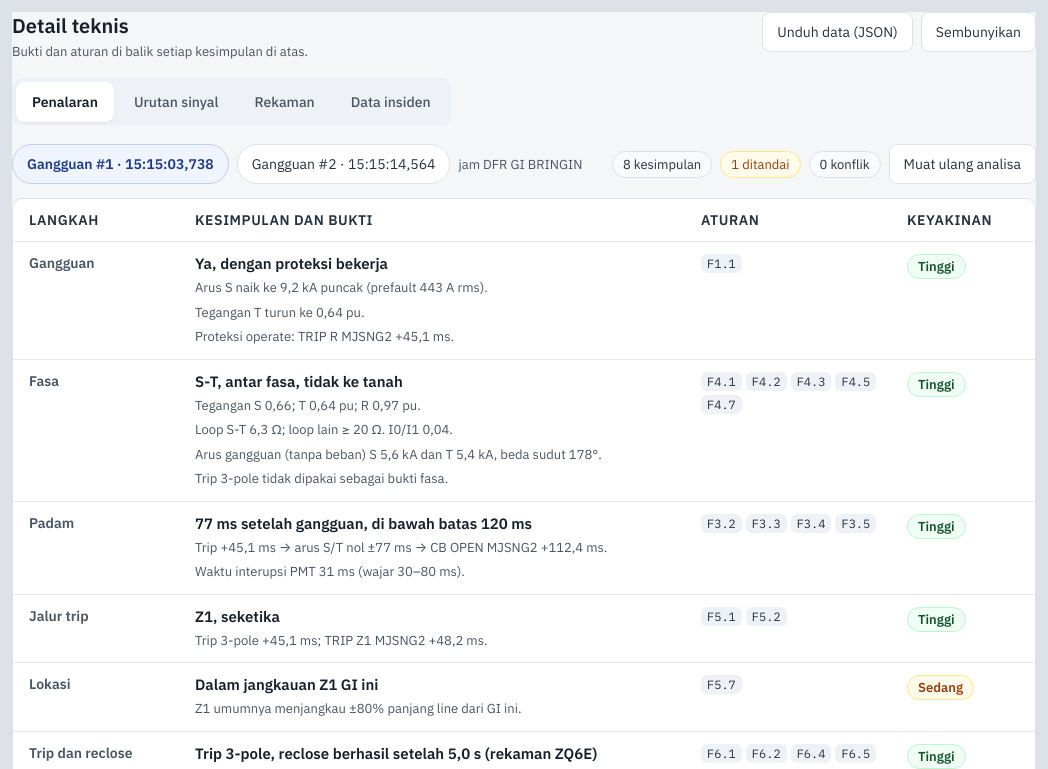
Test case: TechnicalDetails — Urutan sinyal › lists the fault record's status changes and the channels that never changed
The width and height of the screenshot is (1048, 769).
Click the button "Urutan sinyal": click(176, 102) x1=118 y1=82 x2=234 y2=122
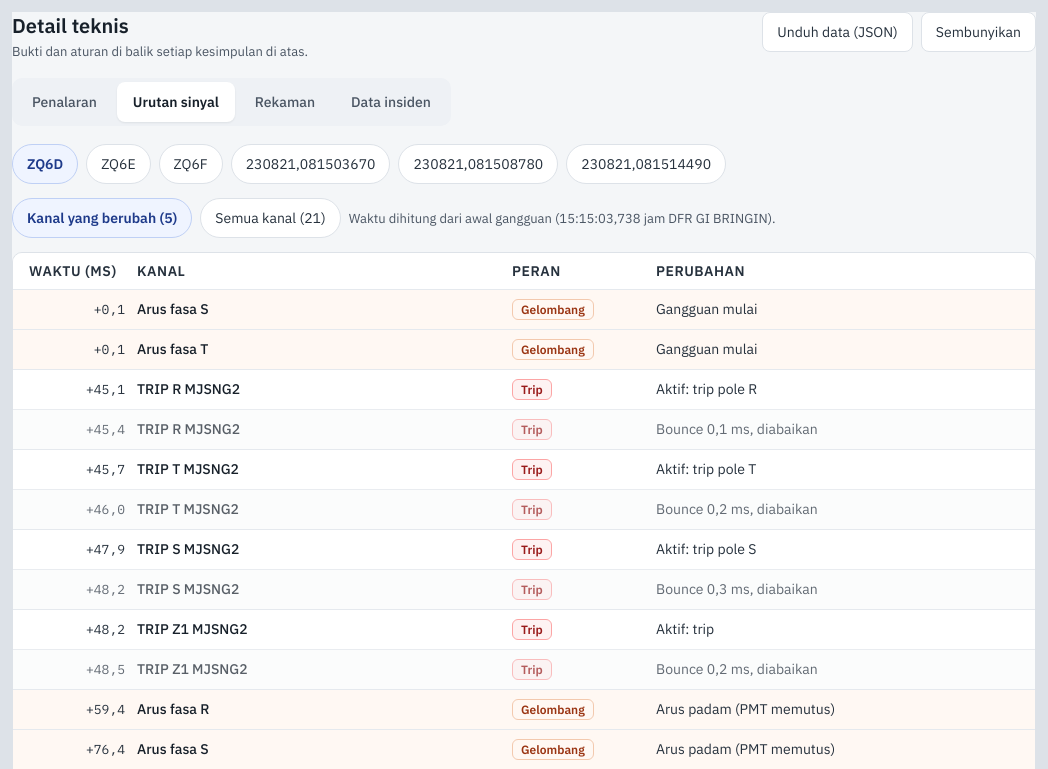
Result: the text "Waktu dihitung dari awal gangguan (15:15:03,738 jam DFR GI BRINGIN)" is shown at x1=349 y1=210 x2=776 y2=226
Result: the 1st text "TRIP Z1 MJSNG2" is shown at x1=137 y1=620 x2=248 y2=638
Click the button "Semua kanal (21)": click(270, 218) x1=200 y1=198 x2=341 y2=238
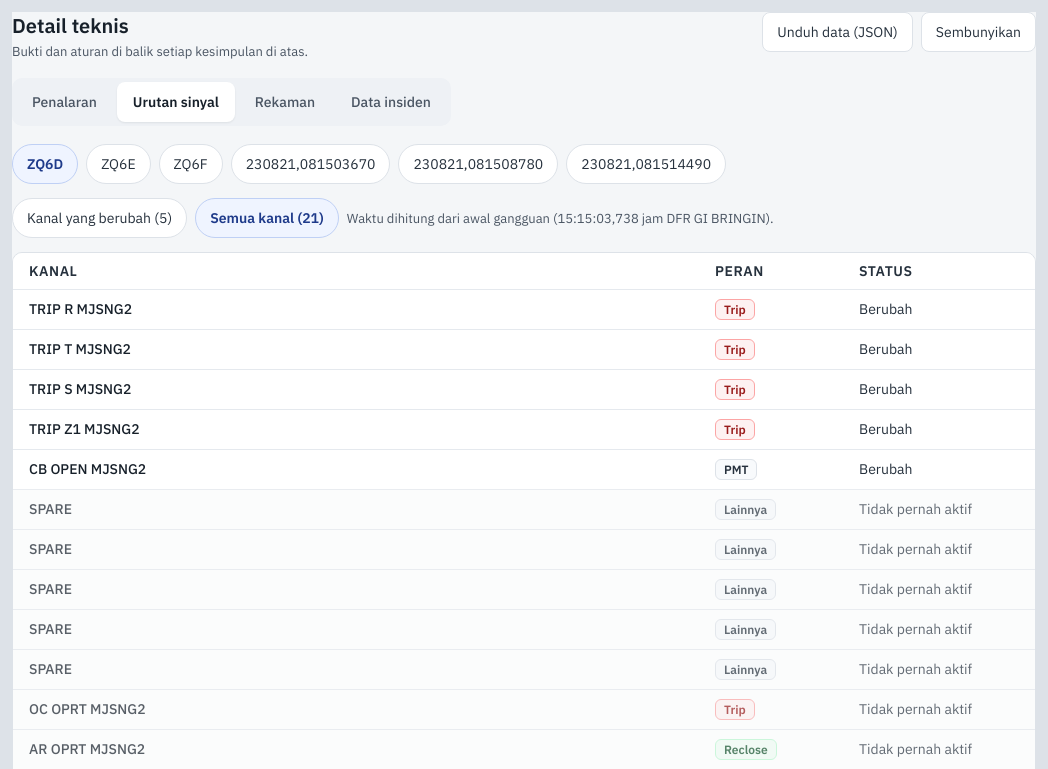
Result: the 1st text "Tidak pernah aktif" is shown at x1=859 y1=500 x2=972 y2=518
